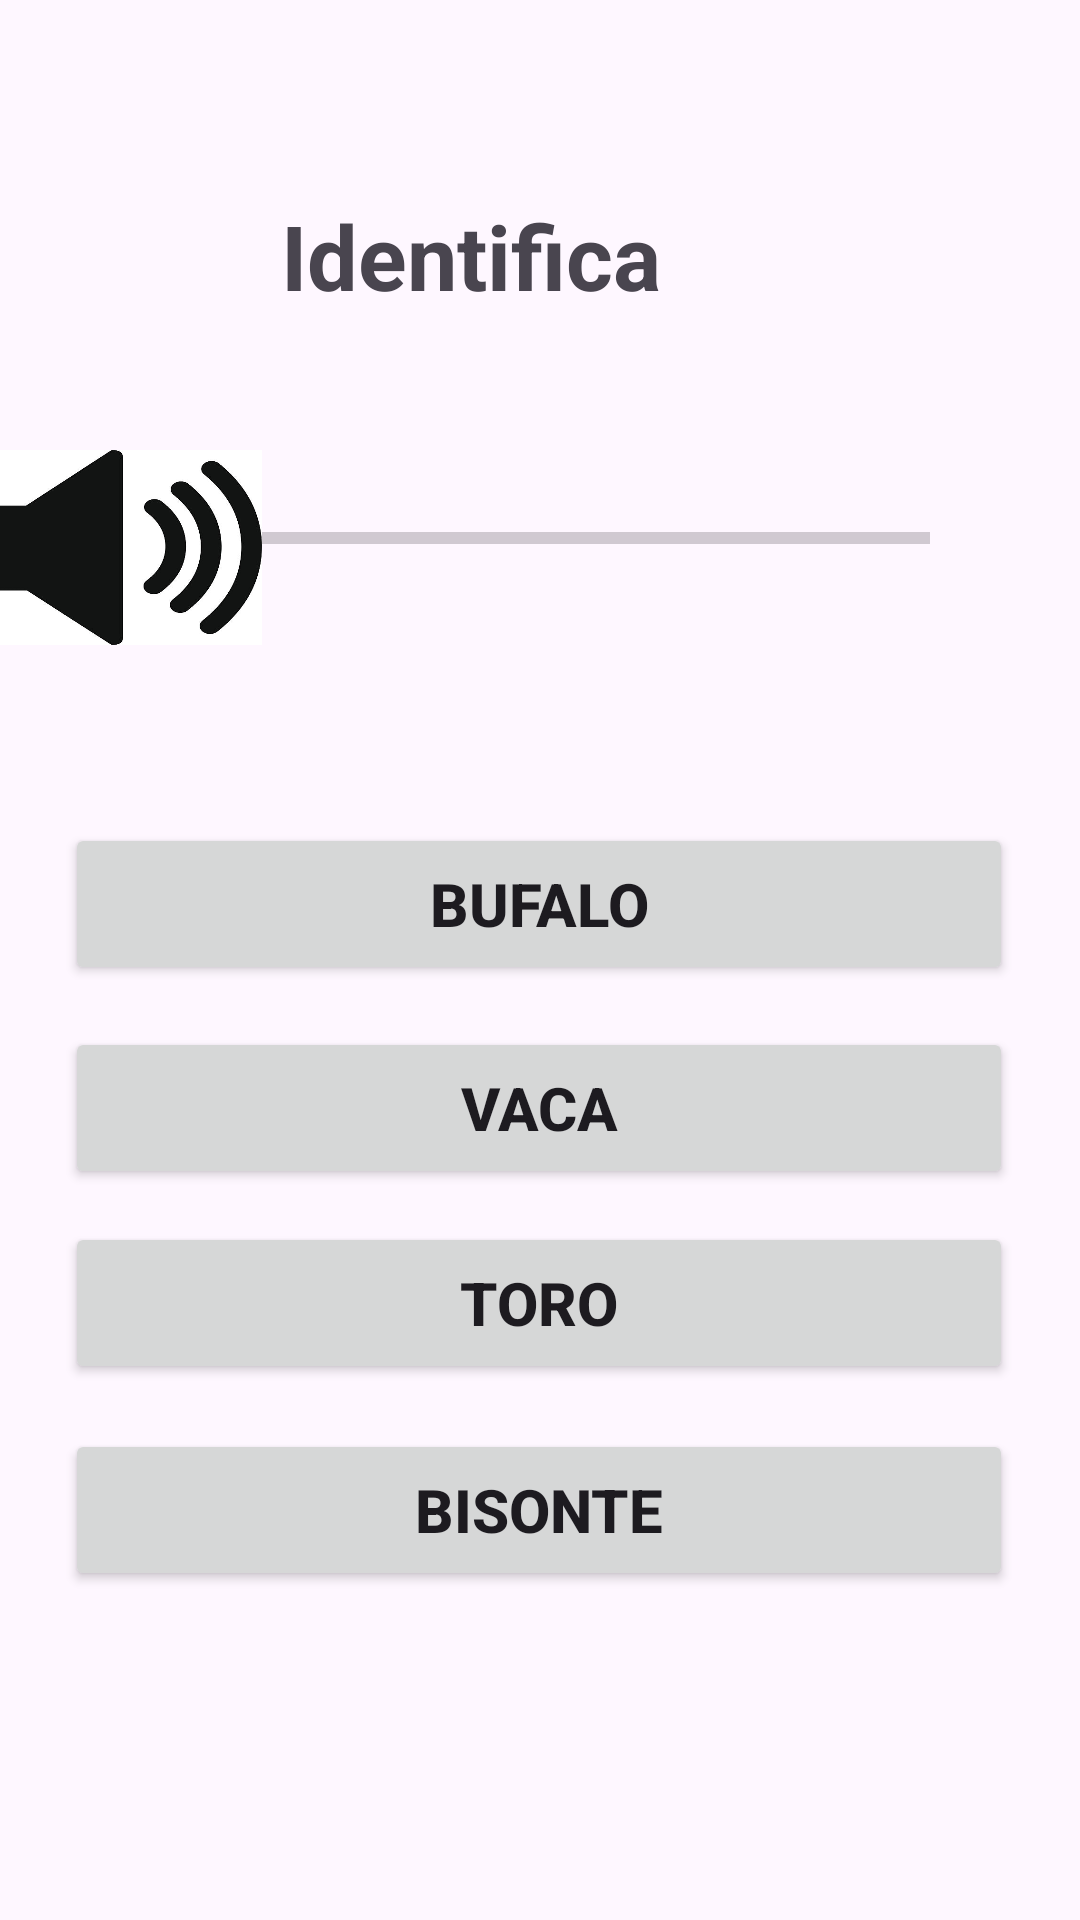

Screen size 1080w x 1920h. Icon name, then its box in pixels as (x1, y1, x2, y2):
audio: (0, 450, 222, 645)
